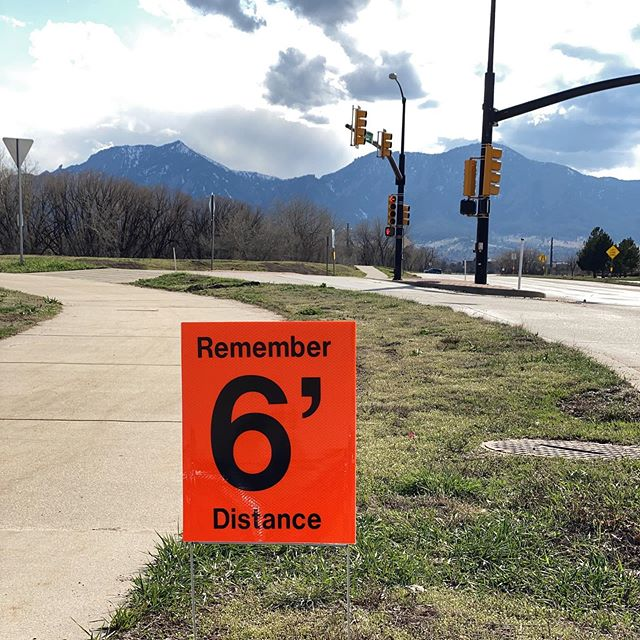grass: (182, 279, 640, 635)
mountain: (341, 117, 640, 222), (56, 111, 266, 200)
sign: (173, 313, 371, 553)
sky: (1, 1, 623, 160)
